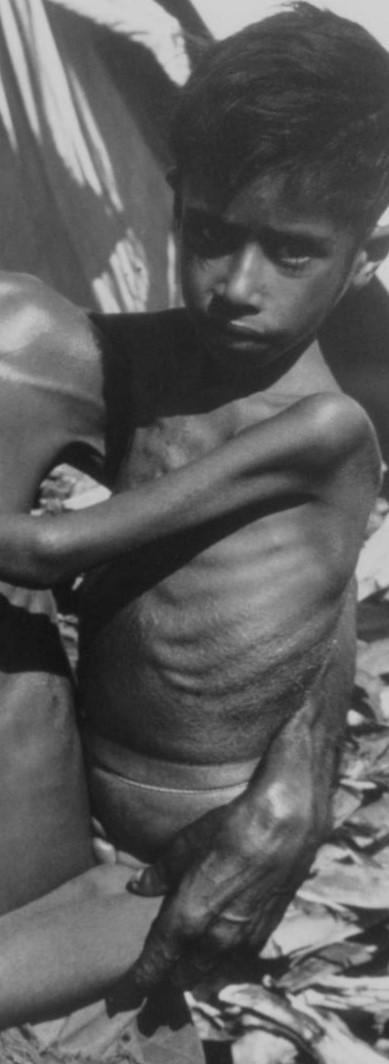Stunting: (135, 0, 389, 405)
